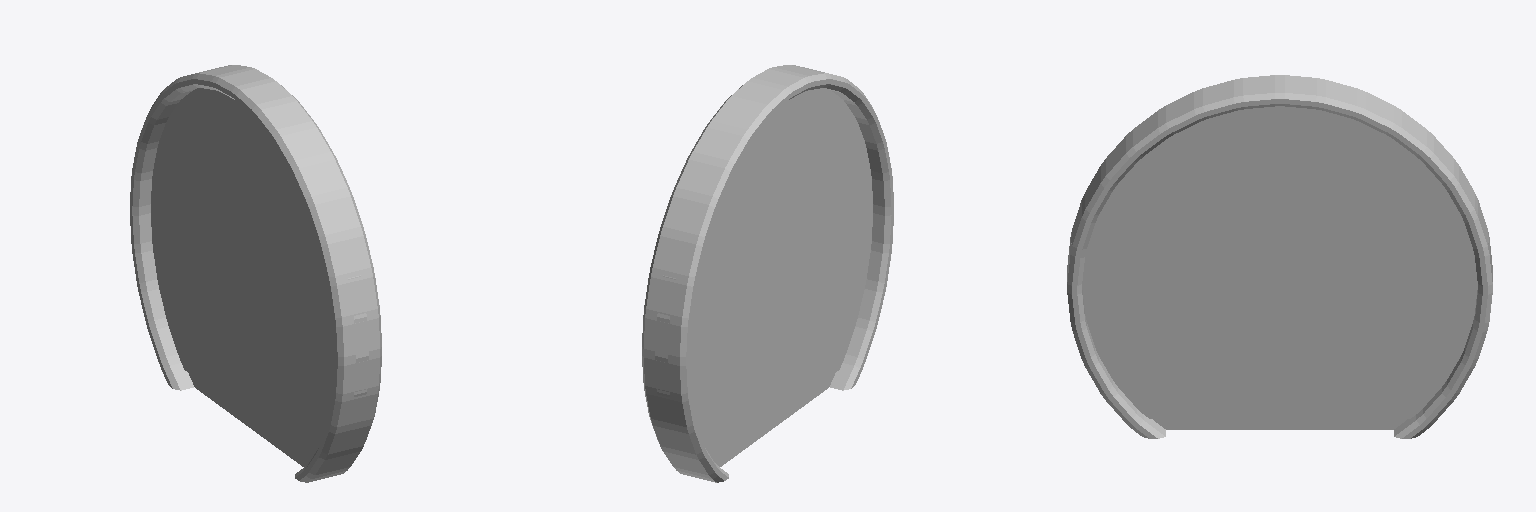
File: wallmask.obj
3 views of the same model, side by side, from view 1: azimuth 30°, elevation 25°; view 2: azimuth 150°, elevation 25°; view 3: azimuth 270°, elevation 25° (orthographic).
Parts seen in each view (by area): view 1: mask_Cylinder, Cylinder_Cylinder.001, door.r_Cylinder.004, door.l_Cylinder.003; view 2: mask_Cylinder, Cylinder_Cylinder.001, door.l_Cylinder.003, door.r_Cylinder.004; view 3: mask_Cylinder, Cylinder_Cylinder.001, door.l_Cylinder.003, door.r_Cylinder.004.
Boxes of the visible parts, box(x1,y1,x2,y2) form: mask_Cylinder: box(151, 88, 368, 460); Cylinder_Cylinder.001: box(130, 65, 381, 482); door.r_Cylinder.004: box(189, 374, 250, 427); door.l_Cylinder.003: box(251, 419, 309, 466); mask_Cylinder: box(655, 88, 872, 460); Cylinder_Cylinder.001: box(642, 65, 893, 482); door.l_Cylinder.003: box(773, 374, 834, 427); door.r_Cylinder.004: box(714, 419, 772, 466); mask_Cylinder: box(1067, 106, 1492, 418); Cylinder_Cylinder.001: box(1067, 75, 1492, 438); door.l_Cylinder.003: box(1153, 419, 1279, 429); door.r_Cylinder.004: box(1280, 419, 1406, 429).
Size of the model in its own units: 0.2408 by 1.78 by 2.